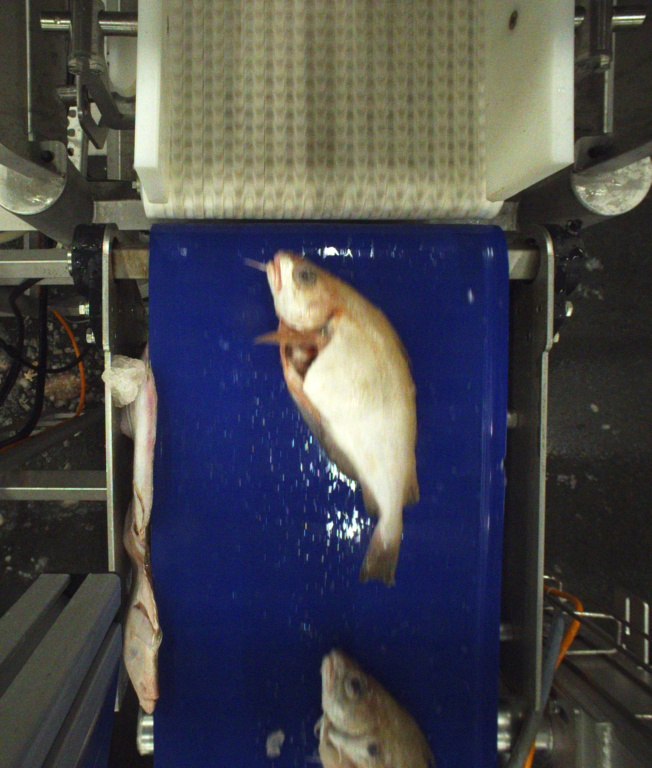BIB: (243, 254, 414, 587)
